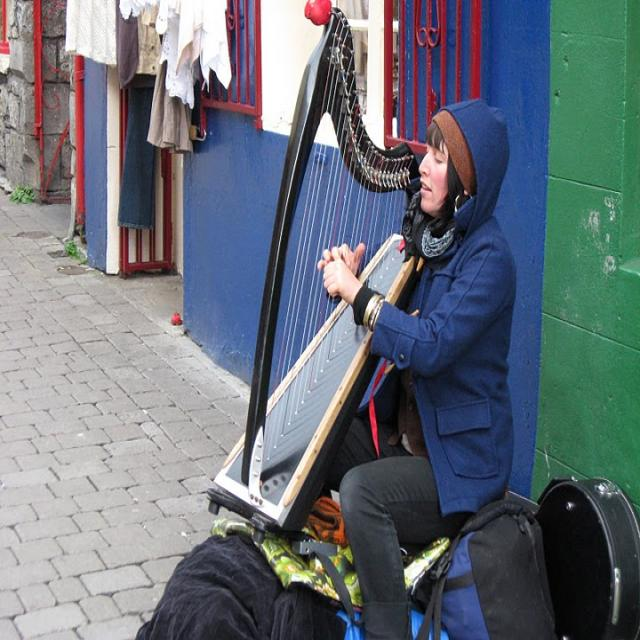harp: (210, 5, 422, 534)
